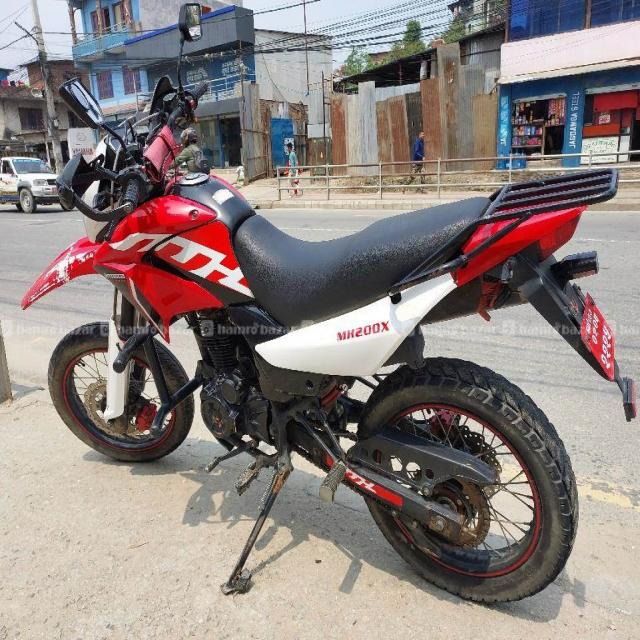License-plate: (578, 288, 618, 380)
